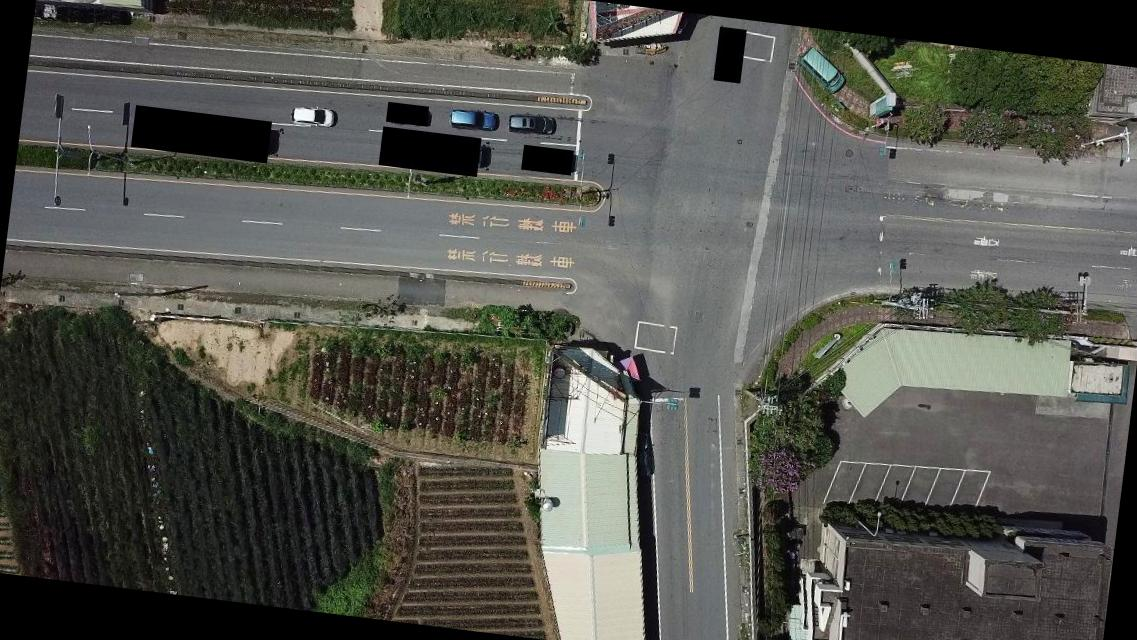vehicle: (793, 44, 849, 96), (506, 109, 556, 138), (448, 106, 498, 133), (289, 103, 337, 131)
